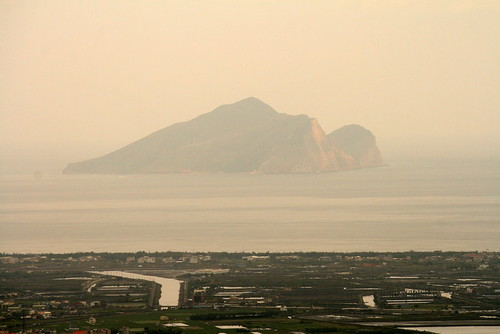turtleIsland: (57, 96, 383, 166)
